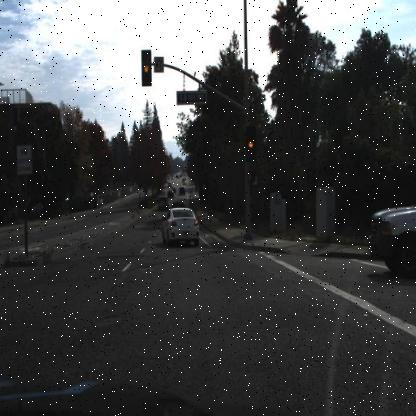car: (159, 206, 203, 248), (167, 198, 187, 214), (156, 194, 170, 212), (178, 184, 186, 198)
trafficLight-Yellow: (140, 46, 152, 86), (245, 125, 255, 162)
